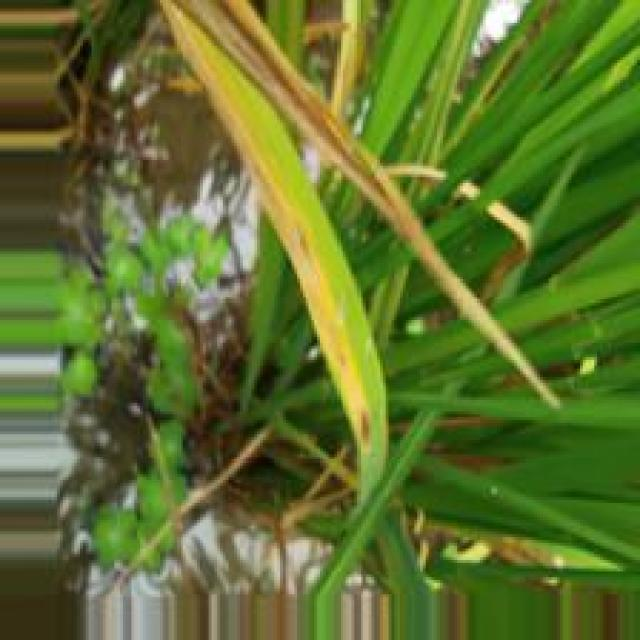Rice False Smut: (156, 2, 375, 441), (180, 0, 450, 300)
